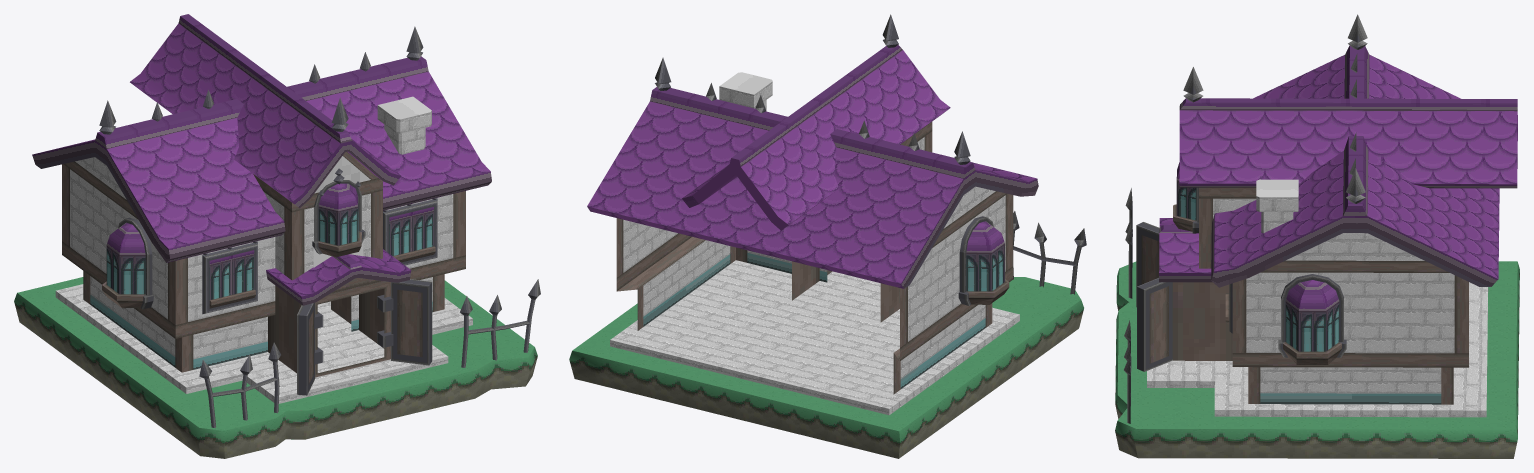
File: asset.glb
The picture shows the model from 3 angles, left to right: view 1: azimuth 30°, elevation 25°; view 2: azimuth 150°, elevation 25°; view 3: azimuth 270°, elevation 25°; orthographic projection. The views are drawn at different scales.
Visible parts, largest first — view 1: Object_5, Object_2, Object_8, Object_6, Object_3, Object_7, Object_9; view 2: Object_5, Object_2, Object_8, Object_3, Object_7, Object_6, Object_9; view 3: Object_5, Object_2, Object_8, Object_6, Object_7, Object_3, Object_9.
Boxes of the visible parts, left/top/right/bottom form: Object_5: left=38, top=23, right=490, bottom=296; Object_2: left=55, top=96, right=472, bottom=403; Object_8: left=32, top=14, right=491, bottom=369; Object_6: left=62, top=152, right=465, bottom=384; Object_3: left=14, top=293, right=537, bottom=458; Object_7: left=17, top=277, right=534, bottom=430; Object_9: left=99, top=26, right=540, bottom=428; Object_5: left=587, top=50, right=1036, bottom=288; Object_2: left=610, top=72, right=1019, bottom=415; Object_8: left=643, top=45, right=1038, bottom=388; Object_3: left=569, top=300, right=1083, bottom=458; Object_7: left=572, top=277, right=1081, bottom=431; Object_6: left=616, top=122, right=1013, bottom=394; Object_9: left=655, top=14, right=1086, bottom=305; Object_5: left=1159, top=54, right=1517, bottom=278; Object_2: left=1147, top=179, right=1488, bottom=417; Object_8: left=1159, top=45, right=1517, bottom=404; Object_6: left=1141, top=187, right=1468, bottom=404; Object_7: left=1117, top=261, right=1517, bottom=429; Object_3: left=1115, top=262, right=1519, bottom=458; Object_9: left=1124, top=14, right=1367, bottom=423.
Size of the model in its own units: 570 by 472 by 561.
8 materials, 7 textured.
